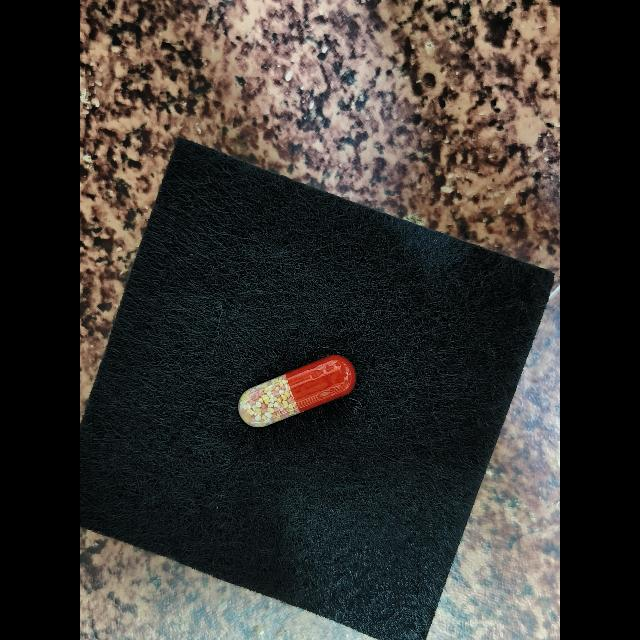Intact Capsule: (238, 355, 356, 427)
